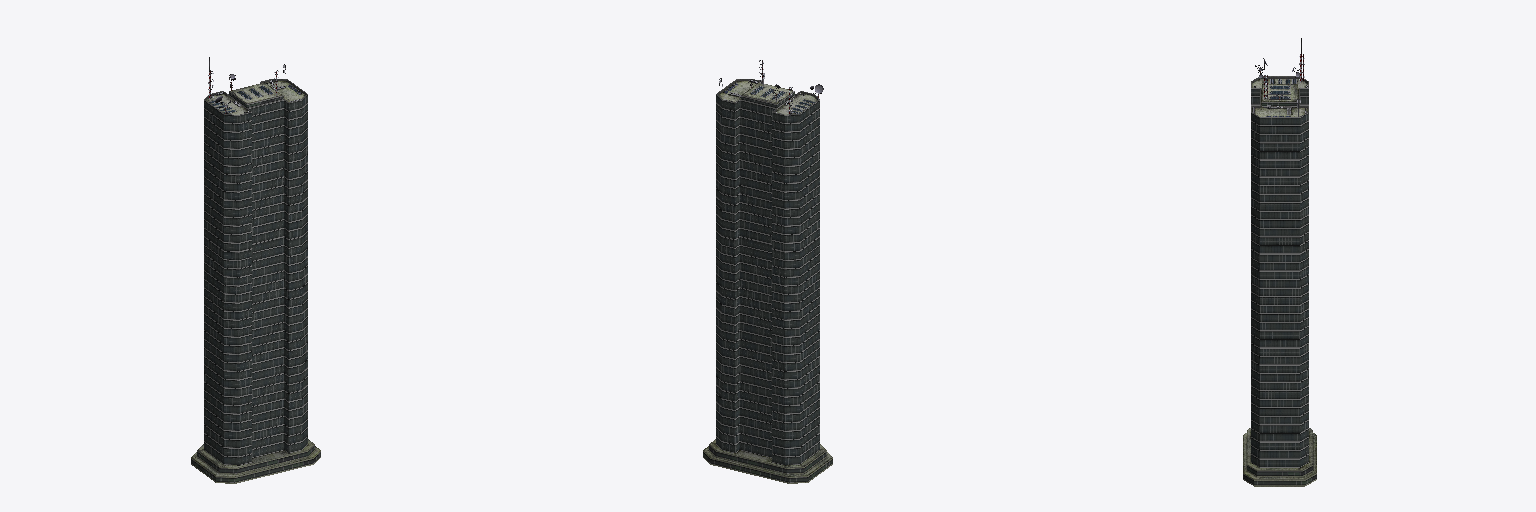
3 renders of one model, left to right at view 1: azimuth 30°, elevation 25°; view 2: azimuth 150°, elevation 25°; view 3: azimuth 270°, elevation 25°, orthographic.
Parts seen in each view (by area): view 1: Cylinder002d, Object001f; view 2: Cylinder002d, Object001f; view 3: Cylinder002d, Object001f.
Boxes of the visible parts, x1=… form: Cylinder002d: x1=191, y1=79, x2=320, y2=483; Object001f: x1=209, y1=74, x2=304, y2=113; Cylinder002d: x1=703, y1=79, x2=832, y2=483; Object001f: x1=724, y1=80, x2=823, y2=113; Cylinder002d: x1=1243, y1=76, x2=1316, y2=486; Object001f: x1=1253, y1=58, x2=1307, y2=114.
Bounding box in the file's own units: 57.29 × 214 × 34.56.
3 materials, 3 textured.